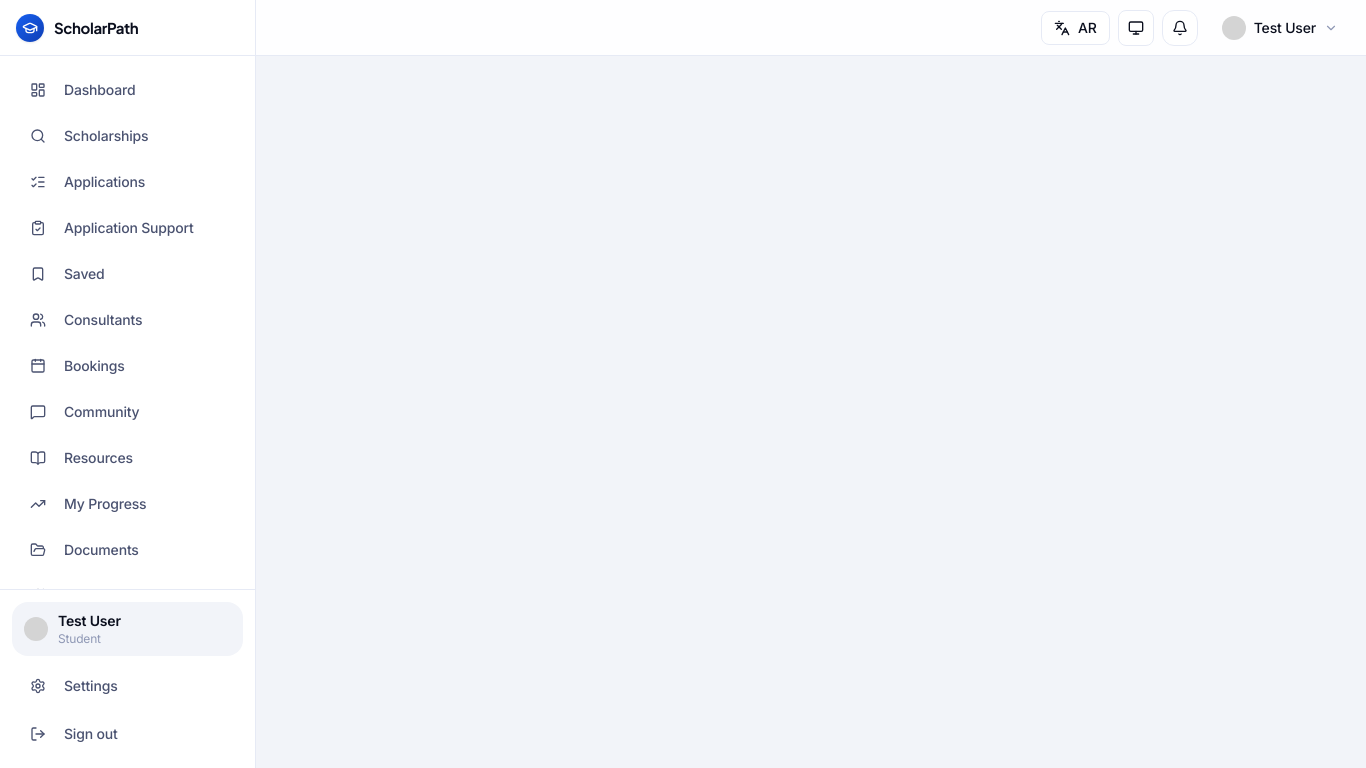
Test: ProfileMenu — role switcher › shows the Consultant switch option only when the backend confirms eligibility
Click the button with aria-label "profile". click: (1280, 28)
box: x1=1210 y1=10 x2=1350 y2=46
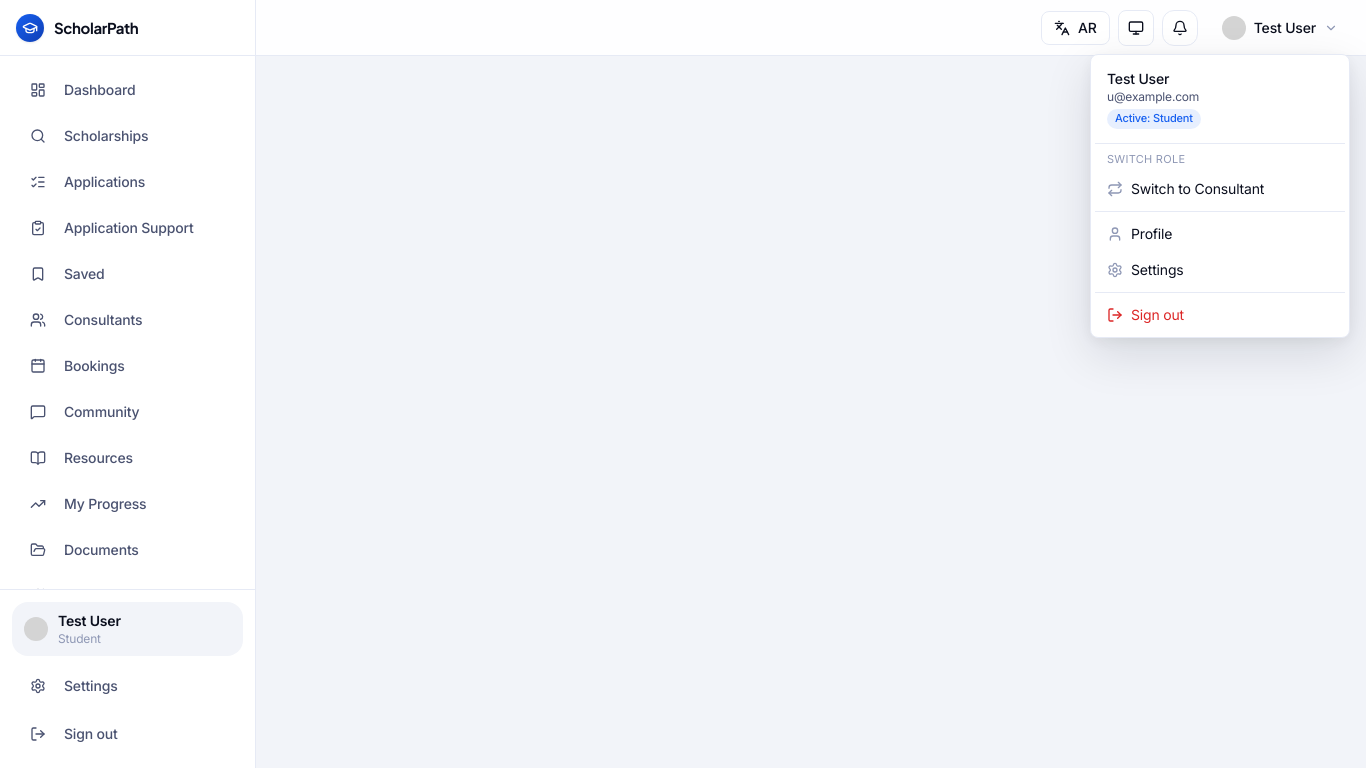
Expected: the menu item "Switch to Consultant" is shown, x1=1107 y1=180 x2=1264 y2=197
